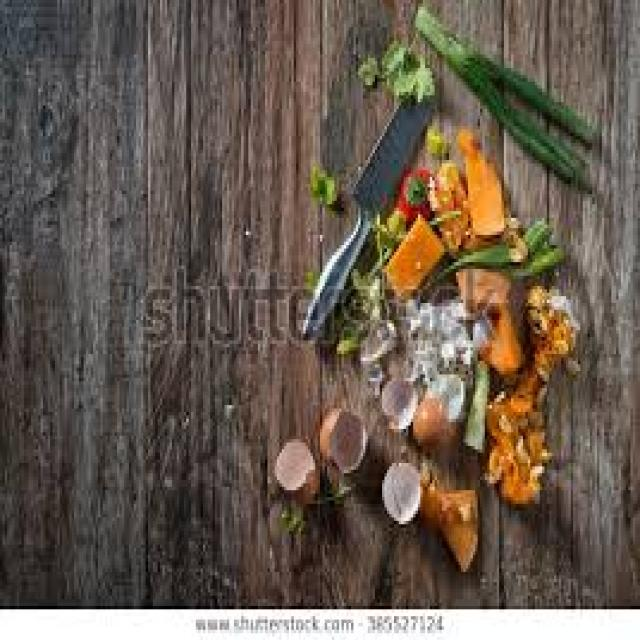organic waste: (413, 3, 595, 180), (482, 279, 576, 507), (394, 296, 473, 371), (418, 473, 475, 569), (356, 34, 432, 99), (382, 214, 439, 290), (425, 156, 466, 248), (463, 150, 504, 231), (270, 432, 318, 500), (316, 402, 366, 466), (430, 238, 506, 279), (461, 354, 489, 453), (378, 453, 416, 521), (423, 364, 463, 426), (377, 374, 418, 429), (411, 392, 449, 449), (508, 238, 558, 279), (399, 163, 430, 218), (346, 266, 380, 316), (372, 204, 403, 256), (516, 208, 547, 258), (361, 313, 396, 351), (308, 160, 339, 201), (454, 122, 480, 167), (320, 473, 351, 504), (360, 347, 380, 395), (504, 224, 528, 258), (473, 313, 492, 351), (279, 497, 301, 528), (422, 119, 442, 150), (337, 323, 353, 344), (301, 269, 313, 282)
